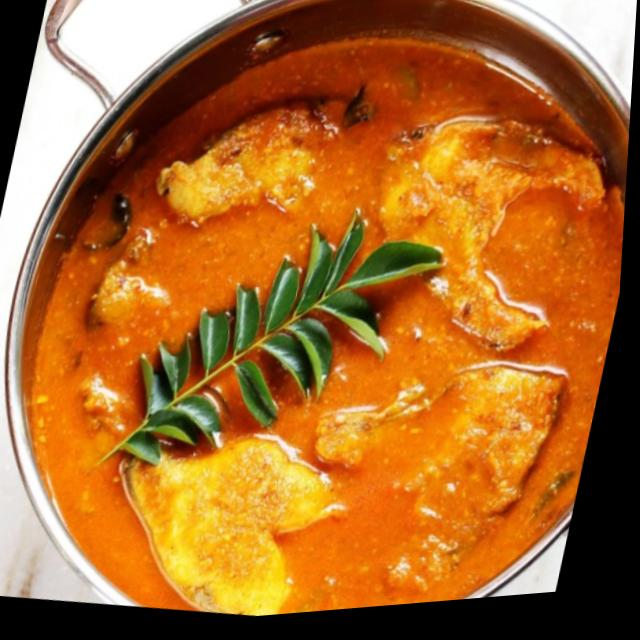FISH CURRY: (21, 37, 625, 615)
